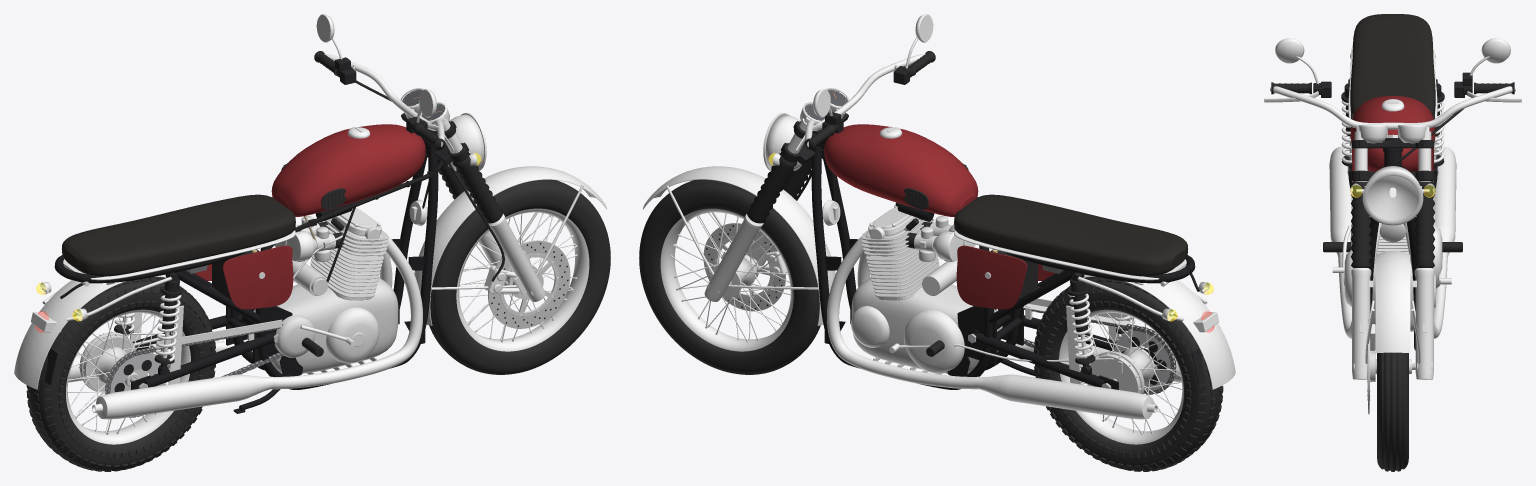
File: bike_classic_4t.glb
3 views of the same model, side by side, from view 1: azimuth 30°, elevation 25°; view 2: azimuth 150°, elevation 25°; view 3: azimuth 270°, elevation 25° (orthographic).
Visible parts, largest first — view 1: wheels__front_wheel__tyre, wheels__rear_wheel__tyre, frame_body__seat, frame_body__fuel_tank, frame_body__frame__tubes, powertrain__exhaust__silencers, powertrain__engine__crankcase, powertrain__exhaust__headers, frame_body__side_panels__left, wheels__front_wheel__rim, frame_body__front_mudguard, frame_body__rear_mudguard (+32 smaller); view 2: wheels__front_wheel__tyre, wheels__rear_wheel__tyre, frame_body__seat, frame_body__fuel_tank, frame_body__frame__tubes, powertrain__exhaust__silencers, powertrain__clutch__cover, powertrain__engine__crankcase, powertrain__exhaust__headers, frame_body__side_panels__right, wheels__front_wheel__rim, frame_body__front_mudguard (+30 smaller); view 3: frame_body__seat, wheels__front_wheel__tyre, frame_body__front_mudguard, powertrain__exhaust__silencers, frame_body__fuel_tank, chassis__front_fork__right_slider, chassis__front_fork__left_slider, electrical__headlight__lens, electrical__headlight__reflector, chassis__handlebar__bar, chassis__front_fork__left_gaiter, chassis__front_fork__right_gaiter (+27 smaller).
Boxes of the visible parts, left/top/right/bottom form: wheels__front_wheel__tyre: left=429, top=179, right=610, bottom=374; wheels__rear_wheel__tyre: left=26, top=277, right=215, bottom=471; frame_body__seat: left=62, top=194, right=295, bottom=276; frame_body__fuel_tank: left=271, top=124, right=425, bottom=216; frame_body__frame__tubes: left=54, top=146, right=438, bottom=389; powertrain__exhaust__silencers: left=68, top=341, right=275, bottom=419; powertrain__engine__crankcase: left=253, top=277, right=398, bottom=374; powertrain__exhaust__headers: left=225, top=237, right=422, bottom=389; frame_body__side_panels__left: left=222, top=245, right=293, bottom=309; wheels__front_wheel__rim: left=456, top=208, right=589, bottom=351; frame_body__front_mudguard: left=414, top=166, right=606, bottom=325; frame_body__rear_mudguard: left=14, top=274, right=165, bottom=389; wheels__front_wheel__tyre: left=639, top=179, right=820, bottom=374; wheels__rear_wheel__tyre: left=1033, top=277, right=1223, bottom=471; frame_body__seat: left=954, top=194, right=1187, bottom=276; frame_body__fuel_tank: left=824, top=124, right=978, bottom=216; frame_body__frame__tubes: left=811, top=146, right=1195, bottom=389; powertrain__exhaust__silencers: left=974, top=341, right=1181, bottom=419; powertrain__clutch__cover: left=851, top=306, right=964, bottom=373; powertrain__engine__crankcase: left=851, top=277, right=1002, bottom=374; powertrain__exhaust__headers: left=827, top=237, right=1022, bottom=389; frame_body__side_panels__right: left=956, top=245, right=1027, bottom=309; wheels__front_wheel__rim: left=660, top=208, right=793, bottom=351; frame_body__front_mudguard: left=643, top=166, right=835, bottom=325; frame_body__seat: left=1350, top=14, right=1435, bottom=115; wheels__front_wheel__tyre: left=1377, top=352, right=1408, bottom=471; frame_body__front_mudguard: left=1375, top=251, right=1410, bottom=352; powertrain__exhaust__silencers: left=1329, top=146, right=1456, bottom=257; frame_body__fuel_tank: left=1350, top=96, right=1435, bottom=171; chassis__front_fork__right_slider: left=1414, top=268, right=1434, bottom=379; chassis__front_fork__left_slider: left=1351, top=268, right=1371, bottom=379; electrical__headlight__lens: left=1367, top=176, right=1418, bottom=221; electrical__headlight__reflector: left=1367, top=176, right=1418, bottom=220; chassis__handlebar__bar: left=1270, top=86, right=1515, bottom=129; chassis__front_fork__left_gaiter: left=1351, top=181, right=1371, bottom=267; chassis__front_fork__right_gaiter: left=1414, top=181, right=1434, bottom=267.
Bounding box in the file's own units: 215 × 123 × 81.18.
